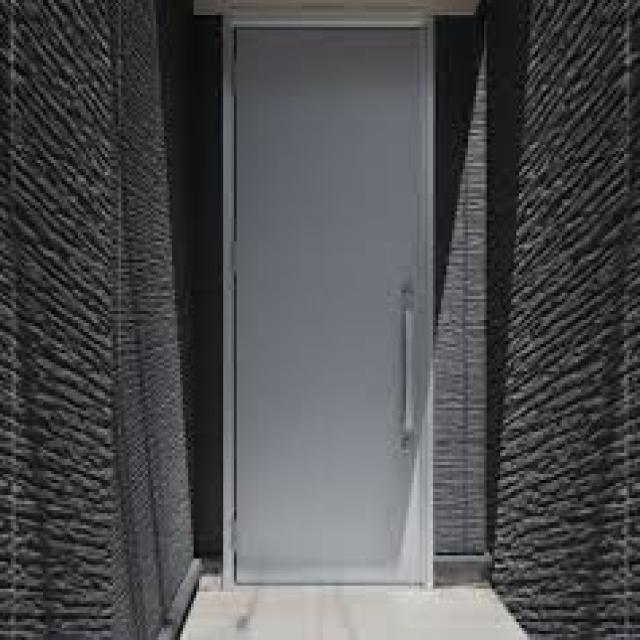door: (223, 18, 436, 589)
